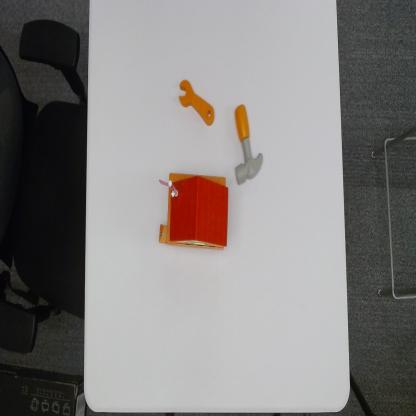Hammer: (233, 102, 264, 187)
House: (158, 170, 230, 252)
Screwdriver: (177, 77, 216, 129)
